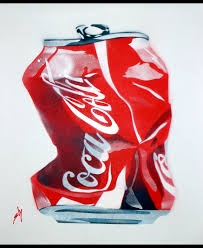metal: (18, 19, 197, 230)
